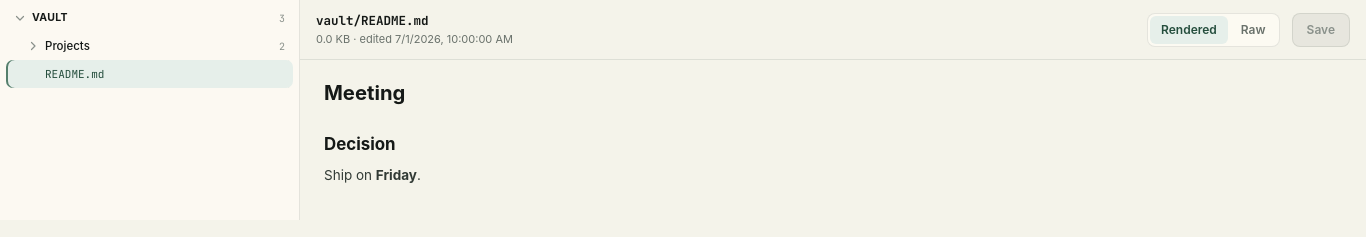
Scenario: Files navigator tree › collapses and expands a folder
Step 1. Click the list item "Projects 2" → (67, 46), box [27, 38, 285, 52]
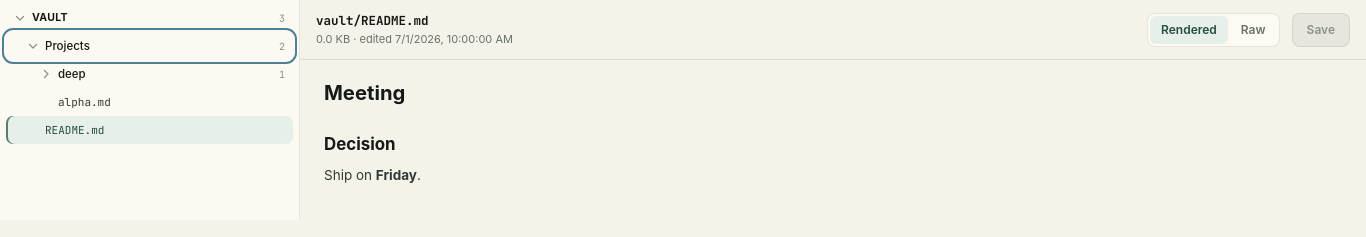
Step 2. Click the list item "Projects 2" → (67, 46), box [27, 38, 285, 52]
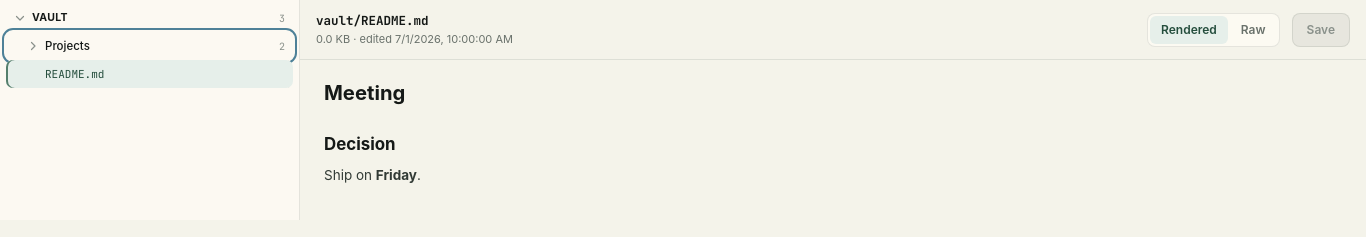
Expected: the list item titled "vault/Projects/alpha.md" is gone
